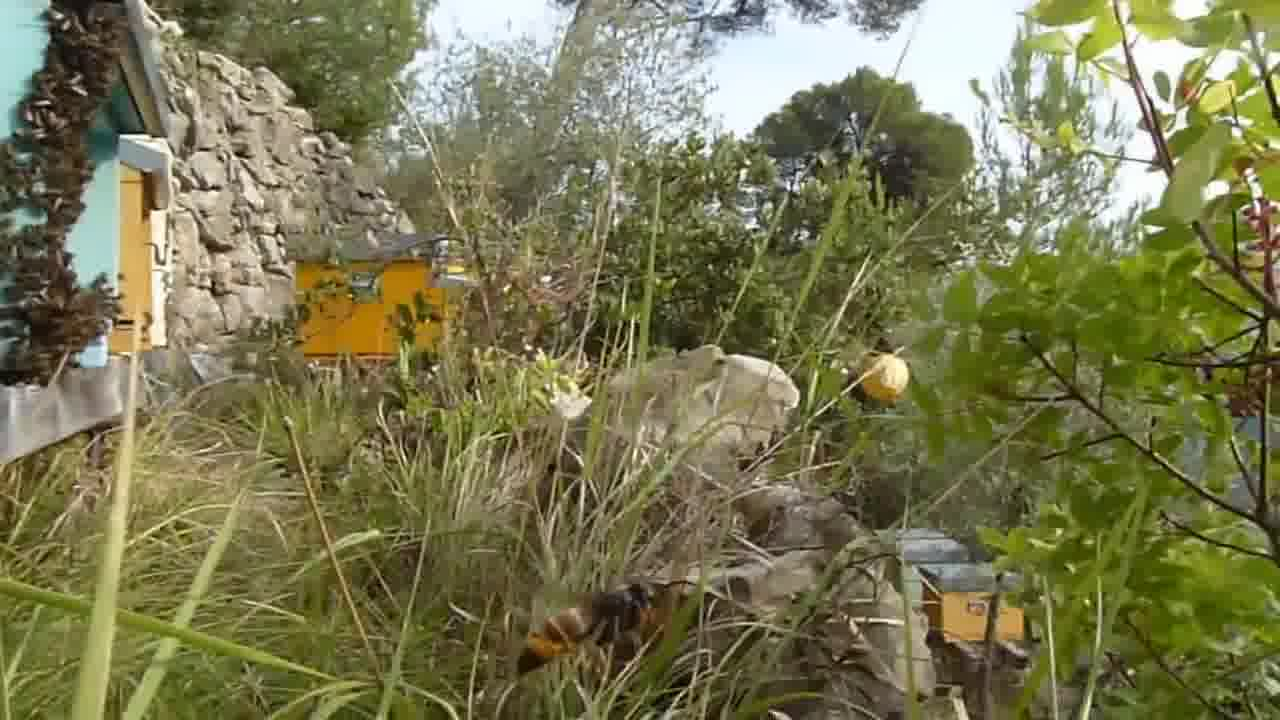bee: (1, 246, 95, 383), (33, 3, 118, 121), (4, 121, 89, 237)
hornet: (515, 574, 675, 679)
